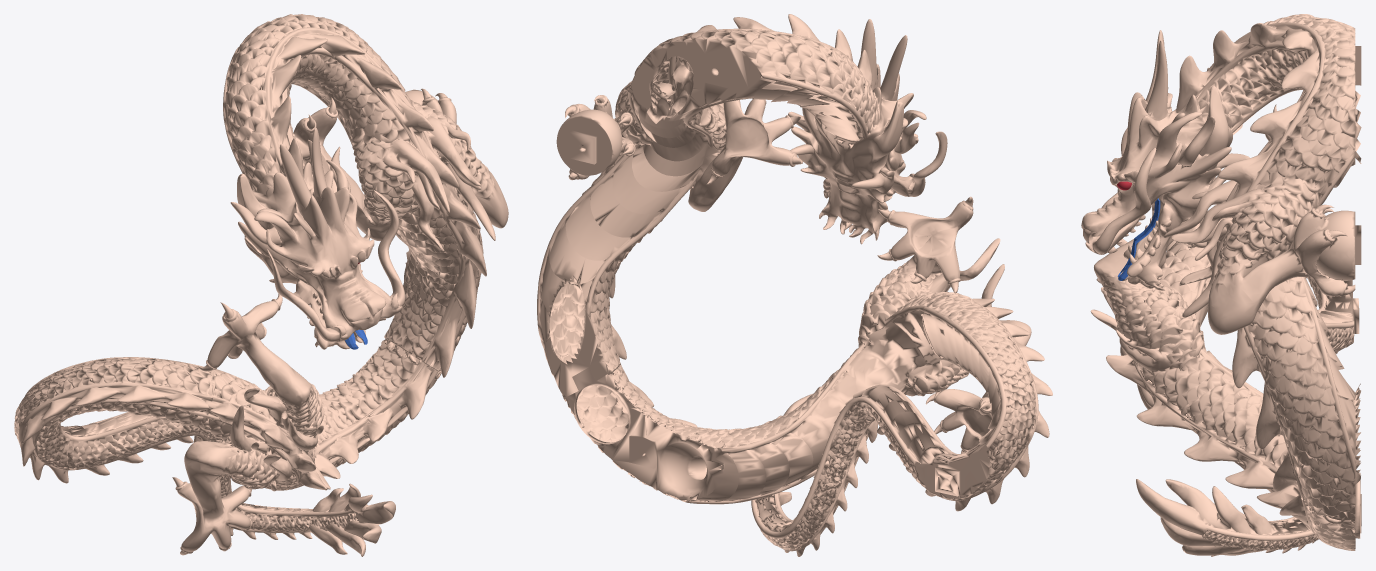
The model's file is dragon_v2_sapphire_sky.glb.
3 views of the same model, side by side, from view 1: azimuth 30°, elevation 25°; view 2: azimuth 150°, elevation 25°; view 3: azimuth 270°, elevation 25° (orthographic). The views are drawn at different scales.
Visible parts, largest first — view 1: dragonGeo:Original Dragon STL; view 2: dragonGeo:Original Dragon STL; view 3: dragonGeo:Original Dragon STL, dragonGeo:polySurface1.
Part boxes in pixels (x1,y1,x2,y2): dragonGeo:Original Dragon STL: [14, 14, 508, 556]; dragonGeo:Original Dragon STL: [537, 14, 1052, 556]; dragonGeo:Original Dragon STL: [1081, 14, 1361, 556]; dragonGeo:polySurface1: [1117, 198, 1160, 280].
Size of the model in its own units: 0.0391 by 0.04 by 0.019.
